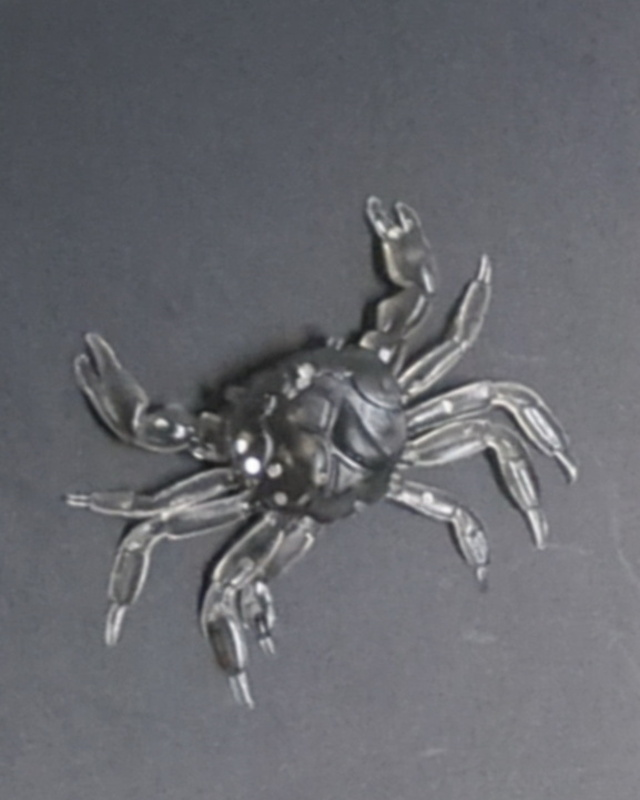crab1: (60, 193, 581, 715)
